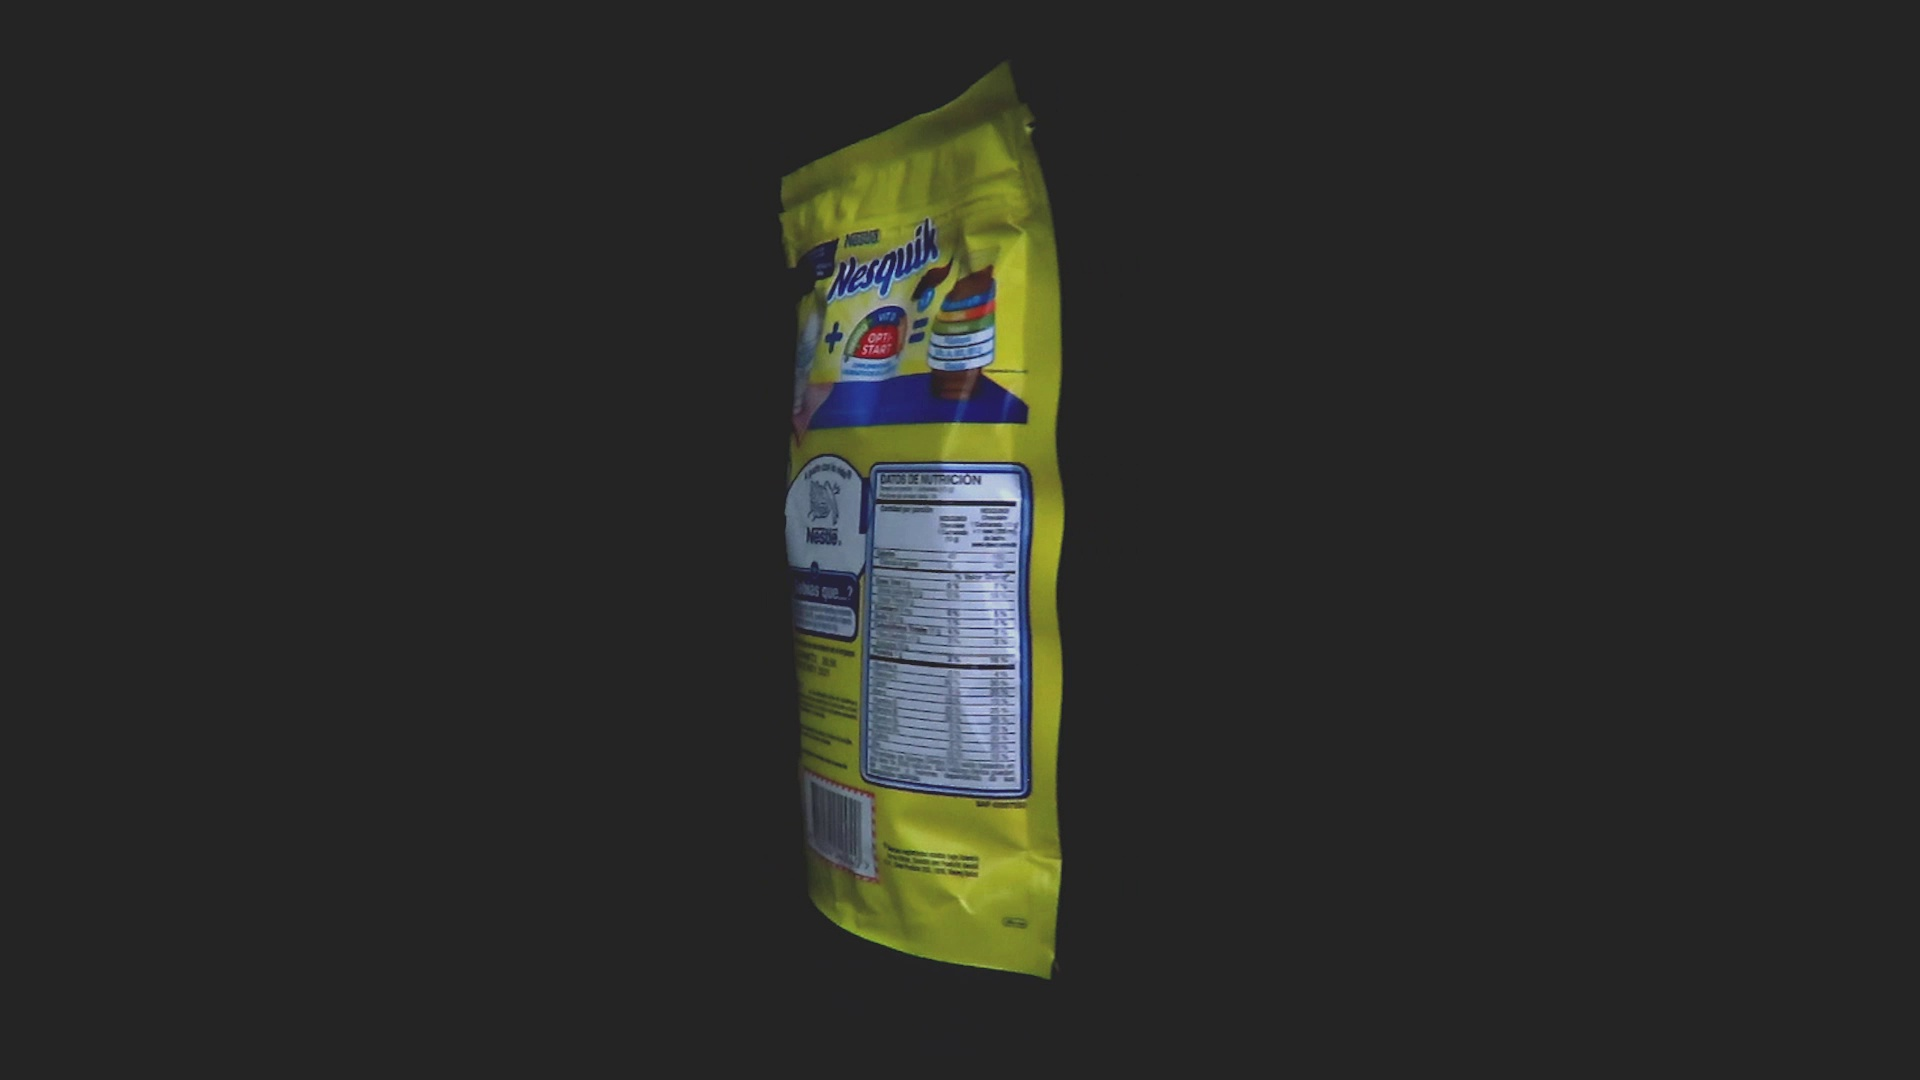COL0170303DYP20000: (779, 120, 1071, 986)
